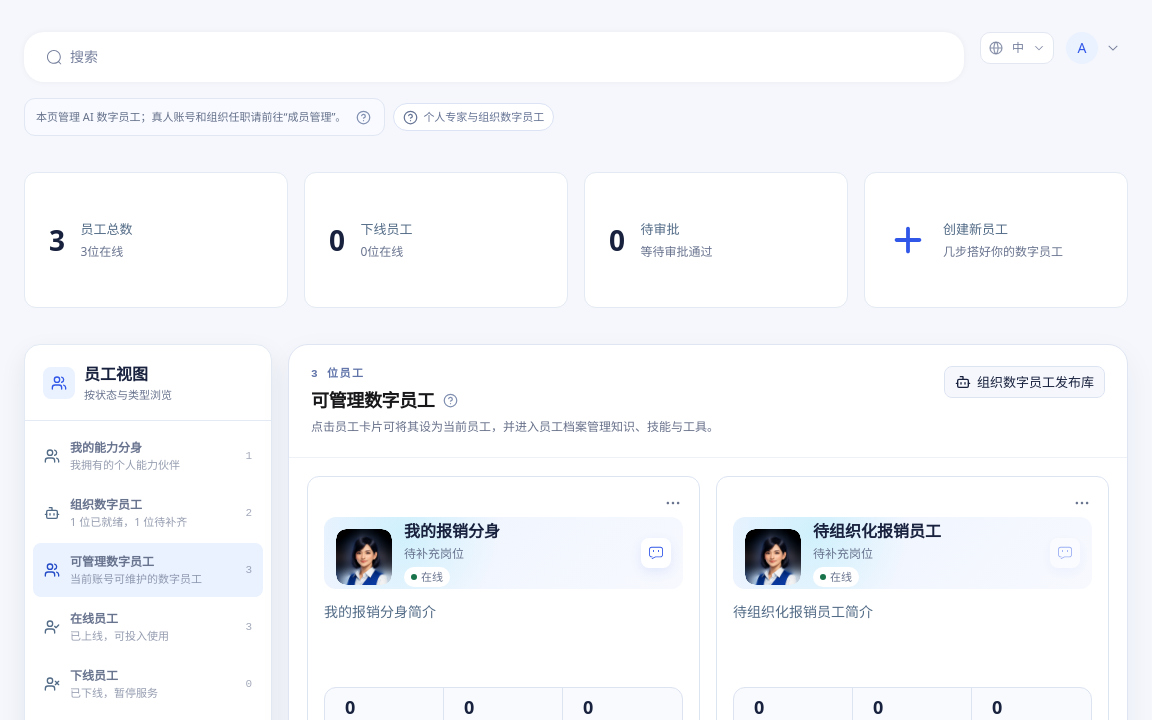
separates my capability avatars from organization employee readiness
Click the link "我的能力分身 我拥有的个人能力伙伴 1".
click(148, 456)  # box [33,429,263,483]
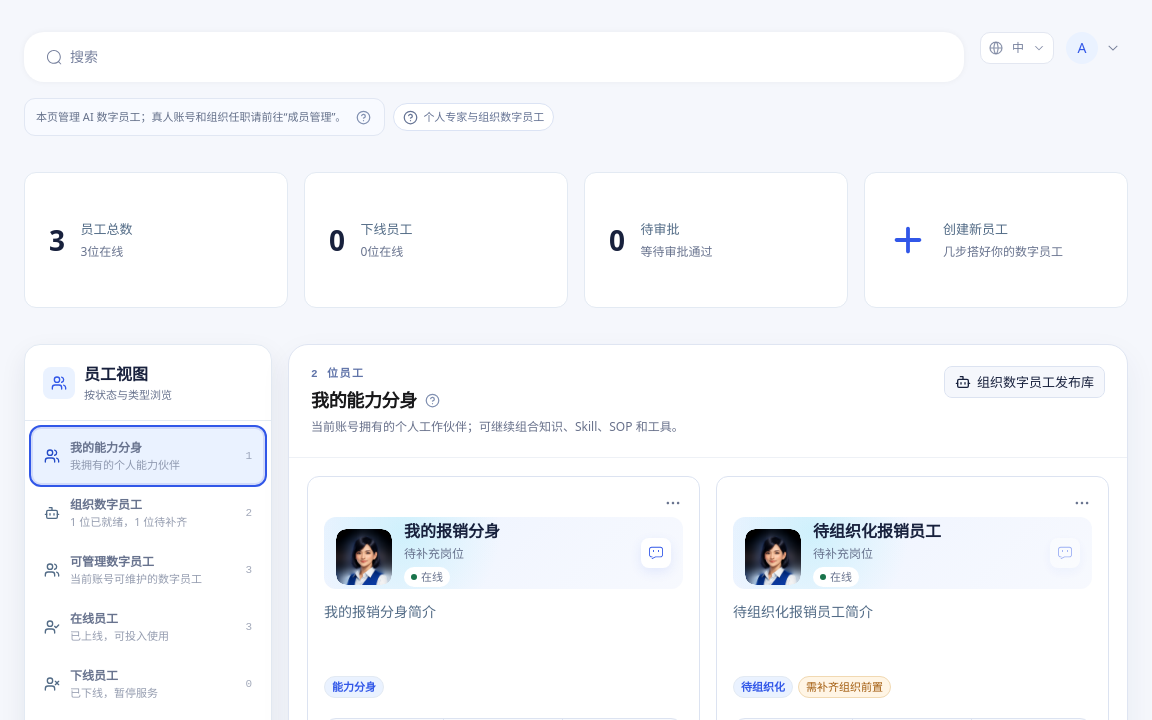
Check: the text "我的报销分身" is shown, box [404,520,500,542]
Check: the text "能力分身" is shown, box [324,676,384,698]
Click the link "组织数字员工 1 位已就绪，1 位待补齐 2".
click(148, 513)  # box [33,486,263,540]
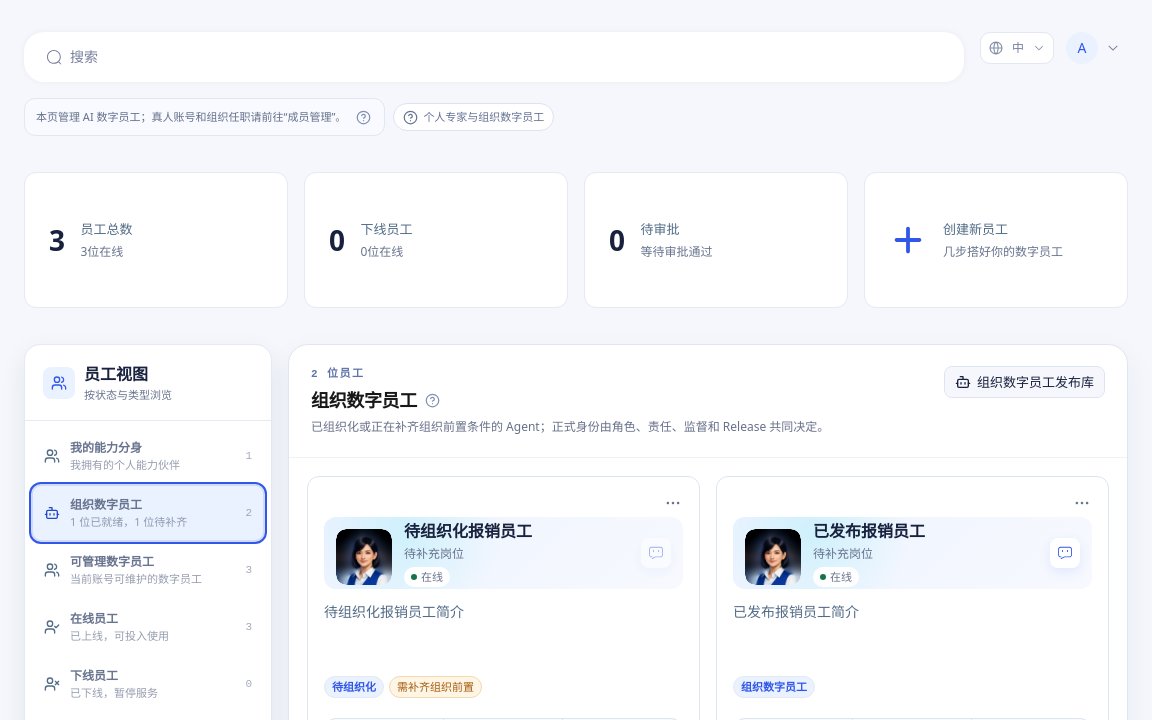
Check: the text "待组织化" is shown, box [324,676,384,698]
Check: the text "需补齐组织前置" is shown, box [389,676,482,698]
Check: the text "已发布报销员工" is shown, box [813,520,925,542]
